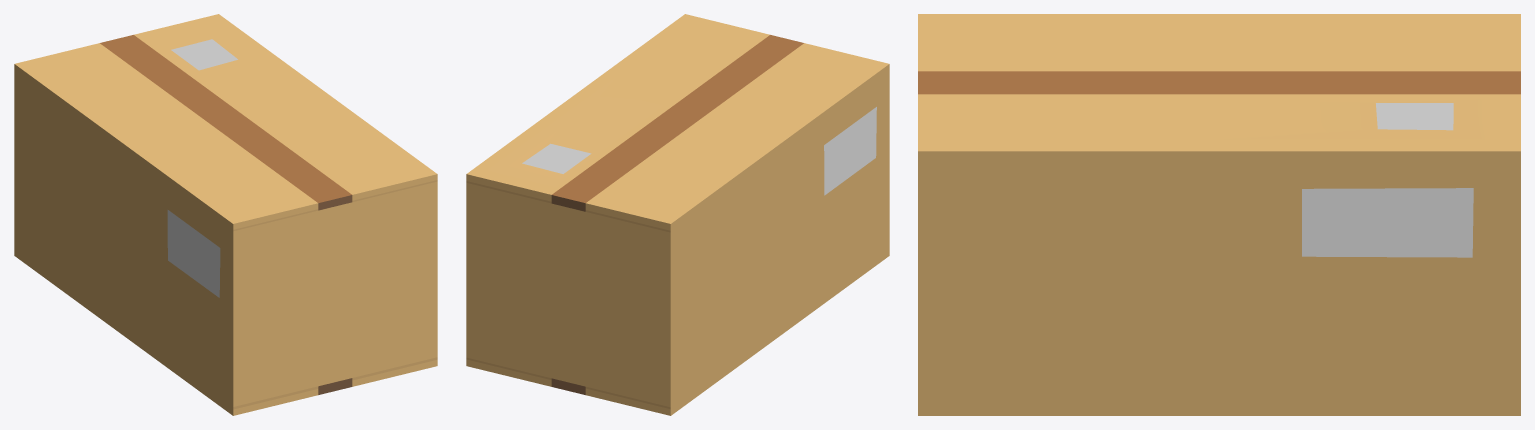
Rendered from Cs_Med_Brn.fbx.
3 views of the same model, side by side, from view 1: azimuth 30°, elevation 25°; view 2: azimuth 150°, elevation 25°; view 3: azimuth 270°, elevation 25° (orthographic). The views are drawn at different scales.
Visible parts, largest first — view 1: Cs_Med_Brn; view 2: Cs_Med_Brn; view 3: Cs_Med_Brn.
Part boxes in pixels (left/top/right/bottom): Cs_Med_Brn: left=14, top=14, right=437, bottom=415; Cs_Med_Brn: left=466, top=14, right=889, bottom=415; Cs_Med_Brn: left=918, top=14, right=1520, bottom=415.
Size of the model in its own units: 0.3268 by 0.6058 by 0.2938.
